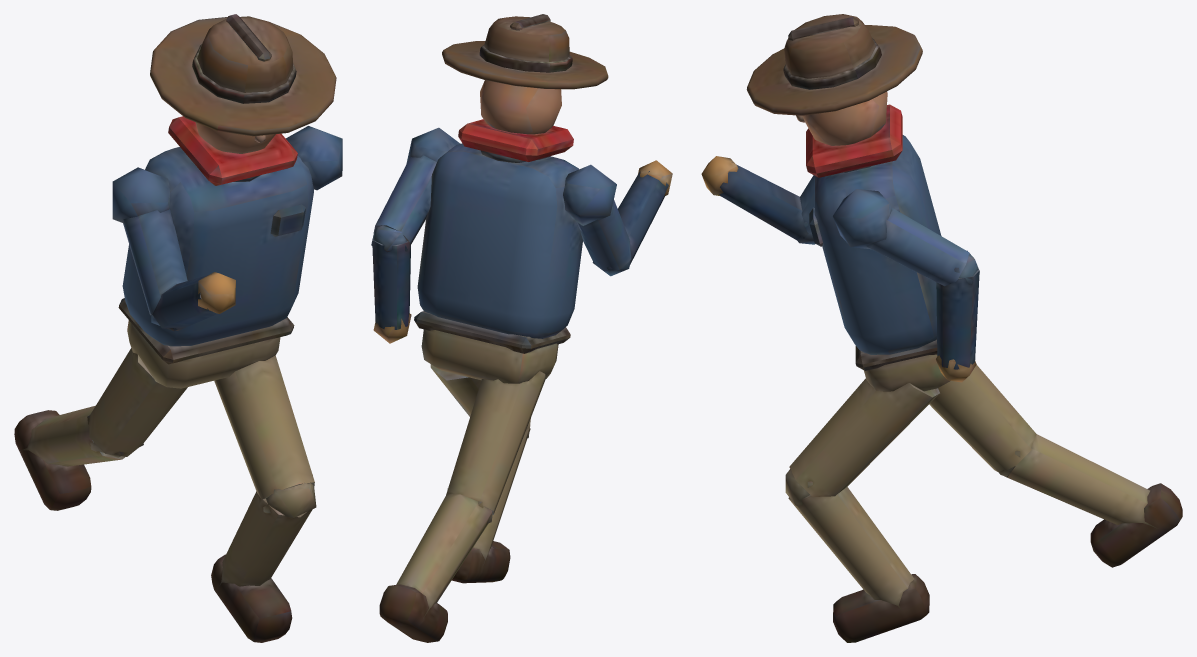
The model's file is farmer_run_3.glb.
The picture shows the model from 3 angles, left to right: view 1: azimuth 30°, elevation 25°; view 2: azimuth 150°, elevation 25°; view 3: azimuth 270°, elevation 25°; orthographic projection. The views are drawn at different scales.
Visible parts, largest first — view 1: farmer_run_3; view 2: farmer_run_3; view 3: farmer_run_3.
Part boxes in pixels (x1,y1,x2,y2): farmer_run_3: (14, 14, 342, 642); farmer_run_3: (371, 14, 672, 642); farmer_run_3: (701, 14, 1182, 642).
Bounding box in the file's own units: 0.6899 × 1.84 × 1.33.
Materials: 1 (1 with a texture image).
